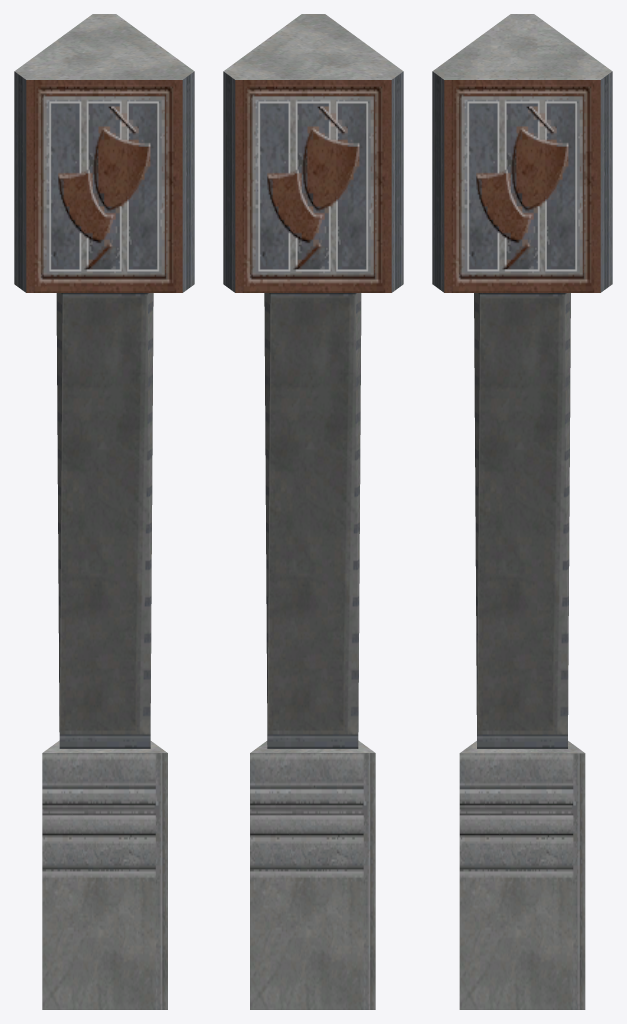
Rendered from thm_sign_corl_standing_l1.fbx.
3 views of the same model, side by side, from view 1: azimuth 30°, elevation 25°; view 2: azimuth 150°, elevation 25°; view 3: azimuth 270°, elevation 25° (orthographic).
Parts seen in each view (by area): view 1: mesh_node; view 2: mesh_node; view 3: mesh_node.
Part boxes in pixels (x1,y1,x2,y2): mesh_node: (14,14,194,1009); mesh_node: (223,14,403,1009); mesh_node: (432,14,612,1009).
Bounding box in the file's own units: 0.7463 × 4.96 × 0.8618.
Materials: 2 (2 with a texture image).
